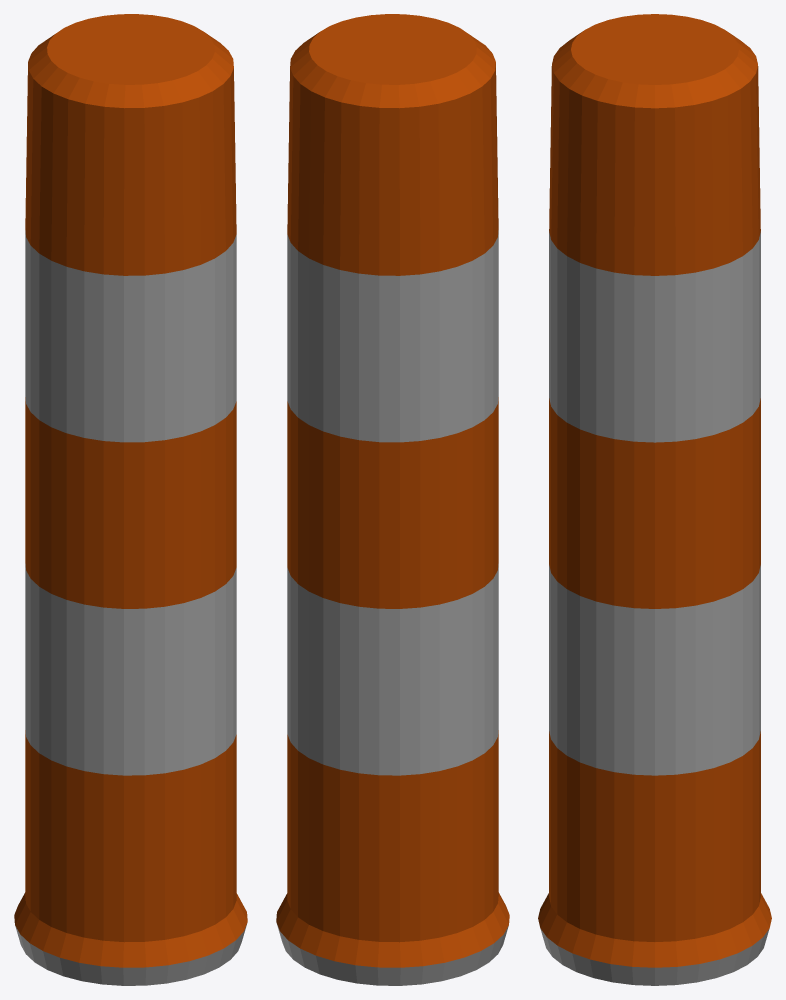
File: TRAFFIC CYLINDER.001_Material.044.glb
3 renders of one model, left to right at view 1: azimuth 30°, elevation 25°; view 2: azimuth 150°, elevation 25°; view 3: azimuth 270°, elevation 25°, orthographic.
Visible parts, largest first — view 1: TRAFFIC CYLINDER.001_Material.044_0; view 2: TRAFFIC CYLINDER.001_Material.044_0; view 3: TRAFFIC CYLINDER.001_Material.044_0.
Boxes of the visible parts, x1,y1,x2,y2 form: TRAFFIC CYLINDER.001_Material.044_0: (14,14,247,985); TRAFFIC CYLINDER.001_Material.044_0: (276,14,509,985); TRAFFIC CYLINDER.001_Material.044_0: (538,14,771,985).
Bounding box in the file's own units: 0.0447 × 0.1875 × 0.0447.
1 material, 1 textured.
